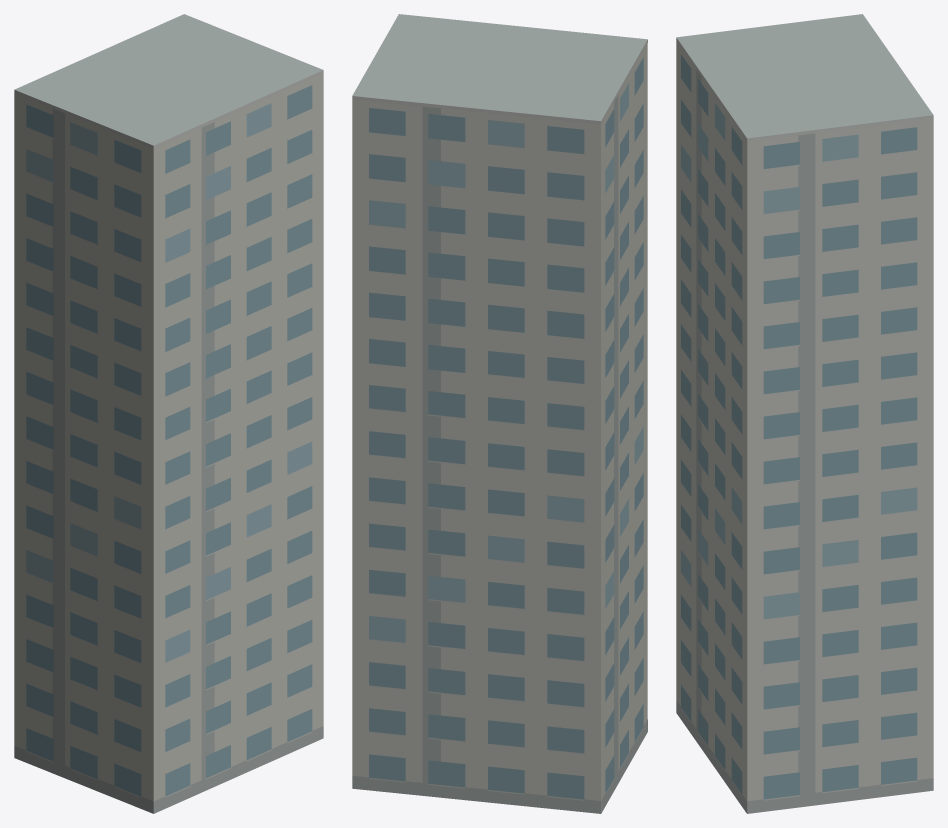
Rendered from residential-008efbdc-066f-423e-92e0-7163237626b0.glb.
3 views of the same model, side by side, from view 1: azimuth 30°, elevation 25°; view 2: azimuth 150°, elevation 25°; view 3: azimuth 270°, elevation 25° (orthographic). The views are drawn at different scales.
Visible parts, largest first — view 1: residential-008efbdc-066f-423e-92e0-7163237626b0.tmp; view 2: residential-008efbdc-066f-423e-92e0-7163237626b0.tmp; view 3: residential-008efbdc-066f-423e-92e0-7163237626b0.tmp.
Part boxes in pixels (x1,y1,x2,y2): residential-008efbdc-066f-423e-92e0-7163237626b0.tmp: (14, 14, 323, 813); residential-008efbdc-066f-423e-92e0-7163237626b0.tmp: (352, 14, 647, 813); residential-008efbdc-066f-423e-92e0-7163237626b0.tmp: (676, 14, 933, 813).
Size of the model in its own units: 18.97 by 48 by 16.59.
